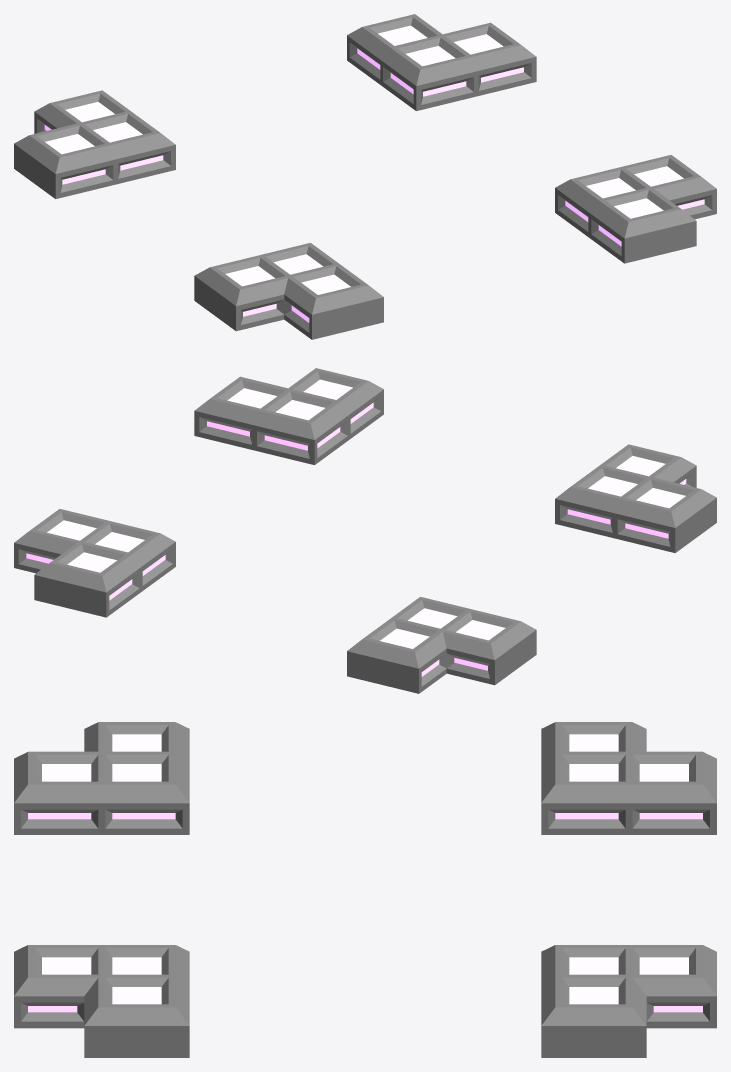
File: RailCross.FBX
The picture shows the model from 3 angles, top to bottom: view 1: azimuth 30°, elevation 25°; view 2: azimuth 150°, elevation 25°; view 3: azimuth 270°, elevation 25°; orthographic projection. The views are drawn at different scales.
Parts seen in each view (by area): view 1: RailCross_high; view 2: RailCross_high; view 3: RailCross_high.
Boxes of the visible parts, left/top/right/bottom form: RailCross_high: left=14, top=14, right=716, bottom=339; RailCross_high: left=14, top=368, right=716, bottom=693; RailCross_high: left=14, top=722, right=716, bottom=1057.
Bounding box in the file's own units: 100 × 100 × 7.
